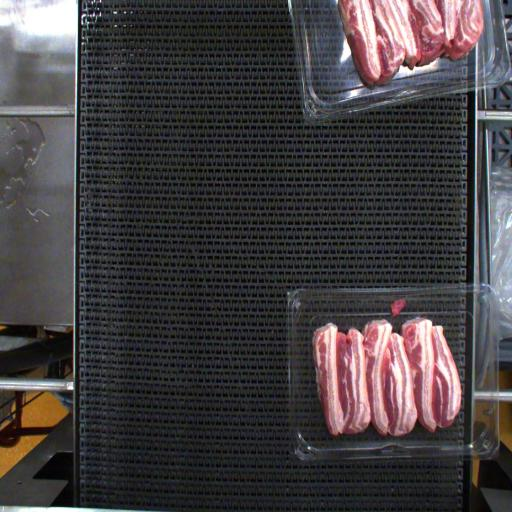loose-meat: (385, 284, 411, 318)
